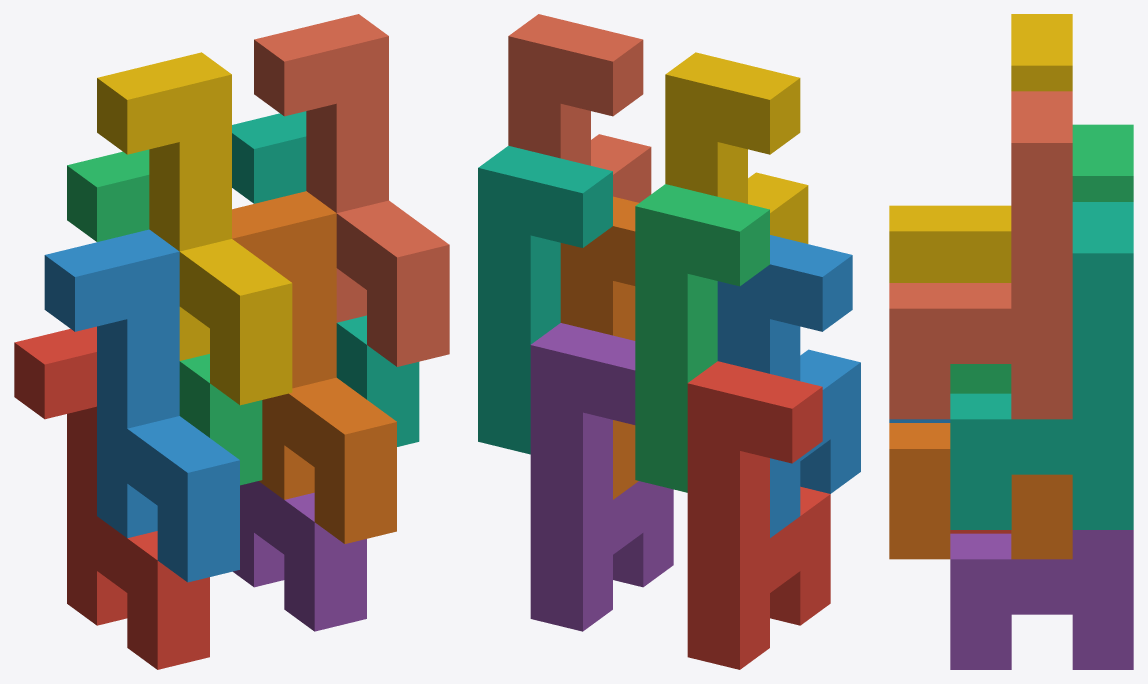
Rendered from tiling.obj.
3 renders of one model, left to right at view 1: azimuth 30°, elevation 25°; view 2: azimuth 150°, elevation 25°; view 3: azimuth 270°, elevation 25°, orthographic.
Parts seen in each view (by area): view 1: copy_1_domain_2, copy_1_domain_8, copy_1_domain_4, copy_1_domain_6, copy_1_domain_1, copy_1_domain_5, copy_1_domain_3, copy_1_domain_7; view 2: copy_1_domain_1, copy_1_domain_5, copy_1_domain_3, copy_1_domain_7, copy_1_domain_2, copy_1_domain_4, copy_1_domain_8, copy_1_domain_6; view 3: copy_1_domain_8, copy_1_domain_7, copy_1_domain_5, copy_1_domain_4, copy_1_domain_6, copy_1_domain_3.
Boxes of the visible parts, bbox=[...] form: copy_1_domain_2: bbox=[44, 229, 239, 582]; copy_1_domain_8: bbox=[254, 14, 449, 366]; copy_1_domain_4: bbox=[97, 52, 292, 405]; copy_1_domain_6: bbox=[232, 191, 396, 543]; copy_1_domain_1: bbox=[14, 326, 209, 669]; copy_1_domain_5: bbox=[233, 481, 366, 631]; copy_1_domain_3: bbox=[67, 149, 262, 485]; copy_1_domain_7: bbox=[232, 111, 419, 446]; copy_1_domain_1: bbox=[687, 361, 830, 669]; copy_1_domain_5: bbox=[530, 323, 673, 631]; copy_1_domain_3: bbox=[635, 184, 769, 492]; copy_1_domain_7: bbox=[478, 145, 612, 454]; copy_1_domain_2: bbox=[717, 235, 860, 537]; copy_1_domain_4: bbox=[665, 52, 808, 243]; copy_1_domain_8: bbox=[508, 14, 651, 202]; copy_1_domain_6: bbox=[560, 196, 638, 499]; copy_1_domain_8: bbox=[889, 91, 1072, 419]; copy_1_domain_7: bbox=[950, 202, 1133, 529]; copy_1_domain_5: bbox=[950, 530, 1133, 669]; copy_1_domain_4: bbox=[889, 14, 1072, 282]; copy_1_domain_6: bbox=[889, 423, 1072, 559]; copy_1_domain_3: bbox=[950, 124, 1133, 393].
Bounding box in the file's own units: 6 × 10 × 4.
